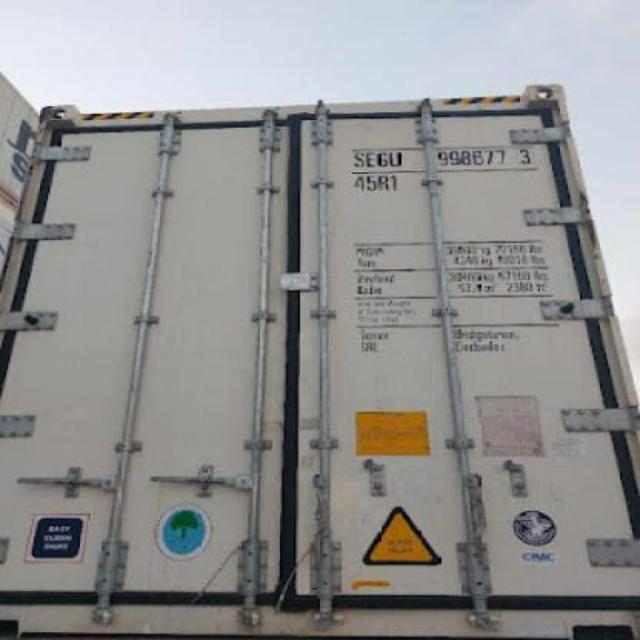3: (516, 147, 532, 163)
6: (472, 150, 486, 166)
7: (484, 149, 496, 167), (496, 149, 506, 167)
8: (462, 150, 472, 166)
9: (436, 150, 449, 166), (450, 150, 462, 166)
E: (364, 151, 376, 169)
G: (376, 148, 389, 168)
S: (350, 150, 366, 168)
U: (388, 148, 404, 168)
